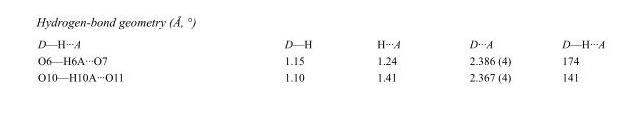table: (37, 37, 604, 83)
table column: (37, 37, 203, 83), (203, 37, 343, 83), (434, 37, 535, 83), (343, 37, 434, 83), (535, 37, 604, 83)
table row: (37, 51, 604, 68), (37, 68, 604, 83), (37, 37, 604, 51)
